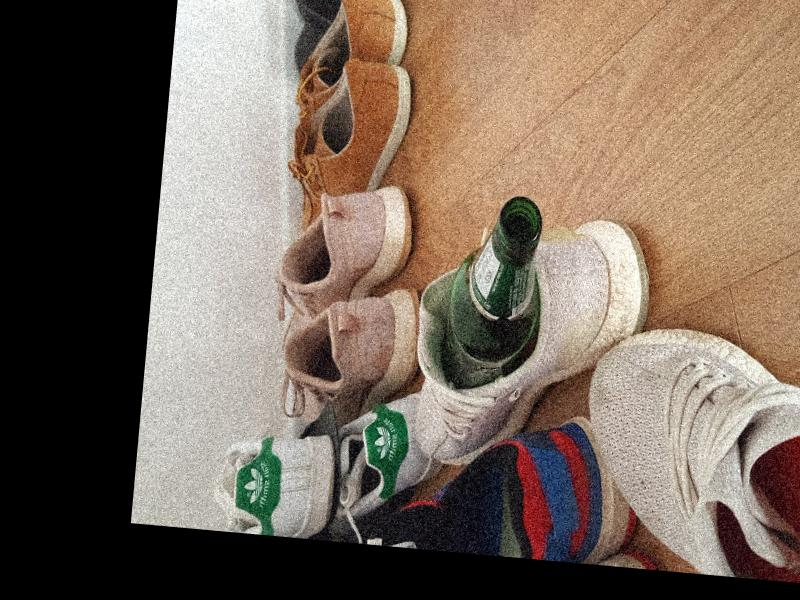Beer: (437, 190, 546, 392)
